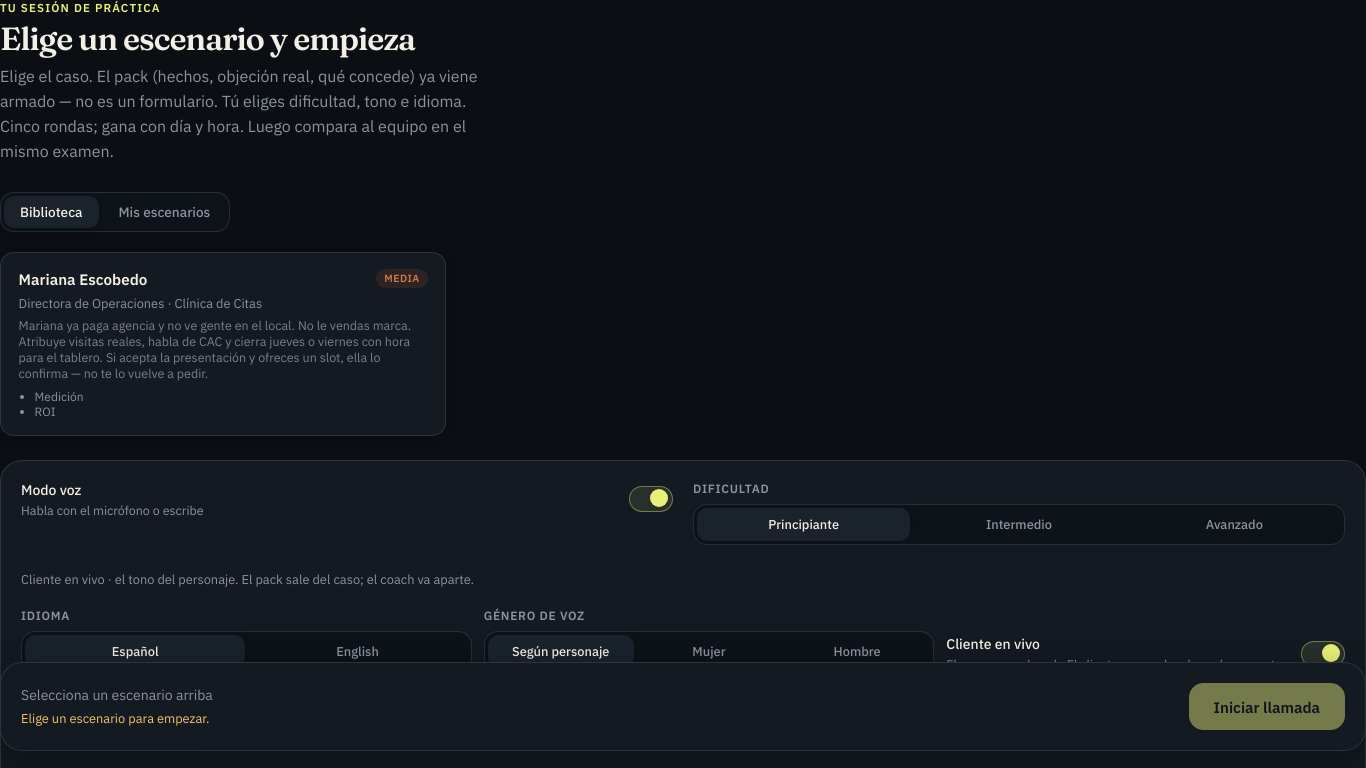
Test: ScenarioHub flow › restores persisted knobs when the trainer picks the same scenario again
The width and height of the screenshot is (1366, 768).
Click the button "Mariana Escobedo" at (223, 344), box [0,252,446,436]
(page scrolled)
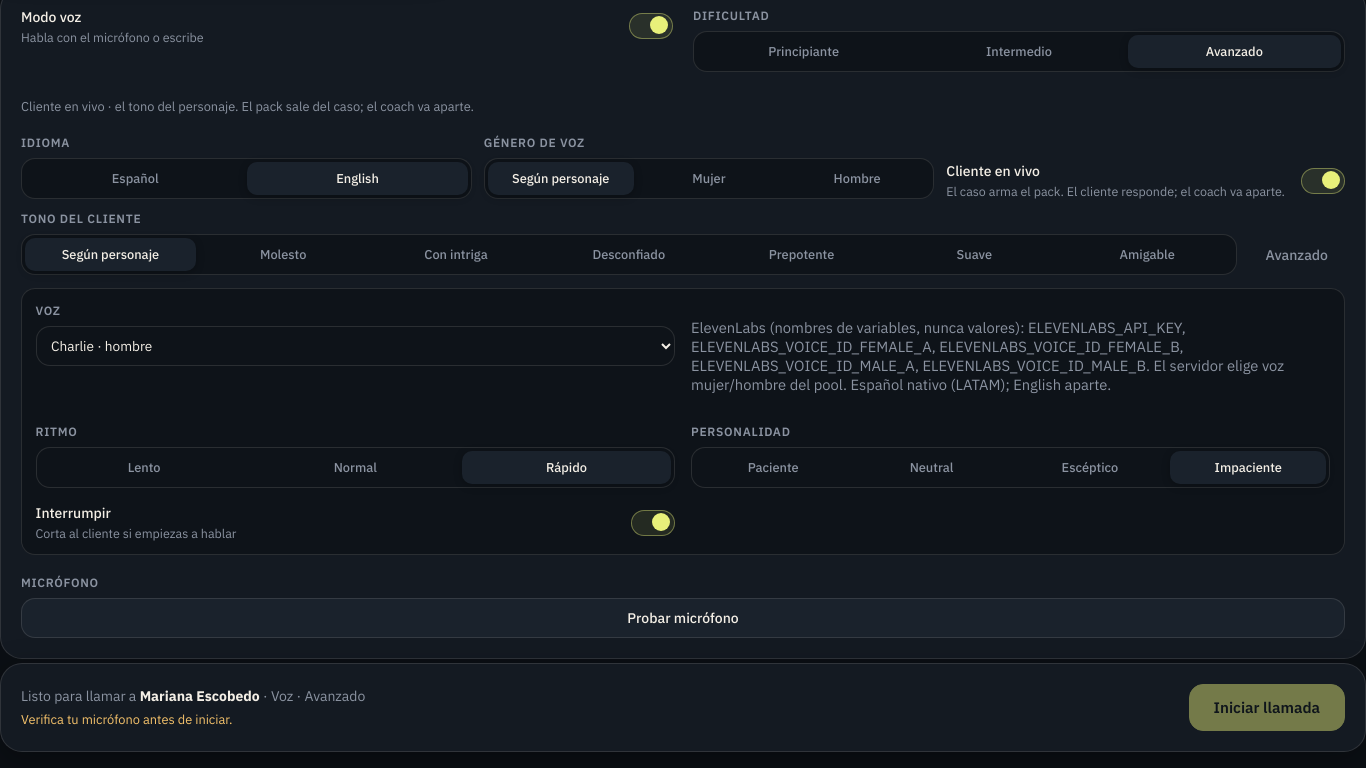
Check: the button "Avanzado" is expanded, box [1249,235,1345,275]
Check: the dropdown labelled "Voz" shows "Charlie · hombre", box [36,326,675,366]
Check: the switch labelled "Interrumpir" is checked, box [36,504,675,541]
